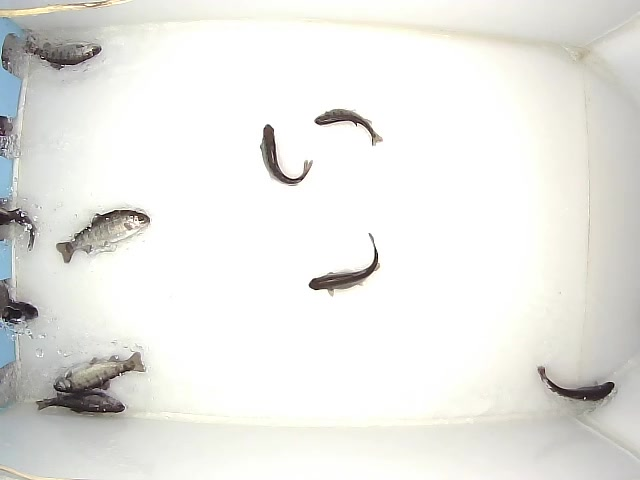fish: (55, 209, 151, 267), (303, 229, 382, 296), (48, 347, 152, 394), (257, 122, 314, 189), (532, 360, 616, 405), (313, 106, 384, 144), (21, 40, 104, 70), (26, 391, 129, 415)
